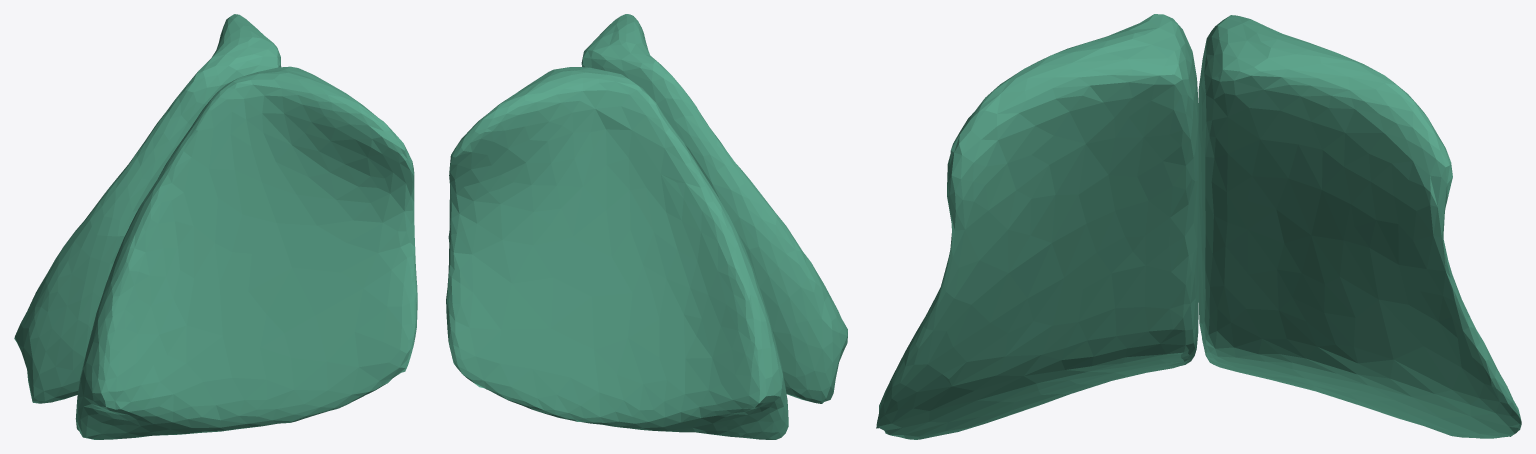
3 renders of one model, left to right at view 1: azimuth 30°, elevation 25°; view 2: azimuth 150°, elevation 25°; view 3: azimuth 270°, elevation 25°, orthographic. The views are drawn at different scales.
Parts seen in each view (by area): view 1: 731.obj; view 2: 731.obj; view 3: 731.obj.
Part boxes in pixels (x1,y1,x2,y2): 731.obj: (14, 14, 417, 439); 731.obj: (446, 14, 847, 439); 731.obj: (876, 14, 1521, 439).
Bounding box in the file's own units: 1633 × 1745 × 2162.
